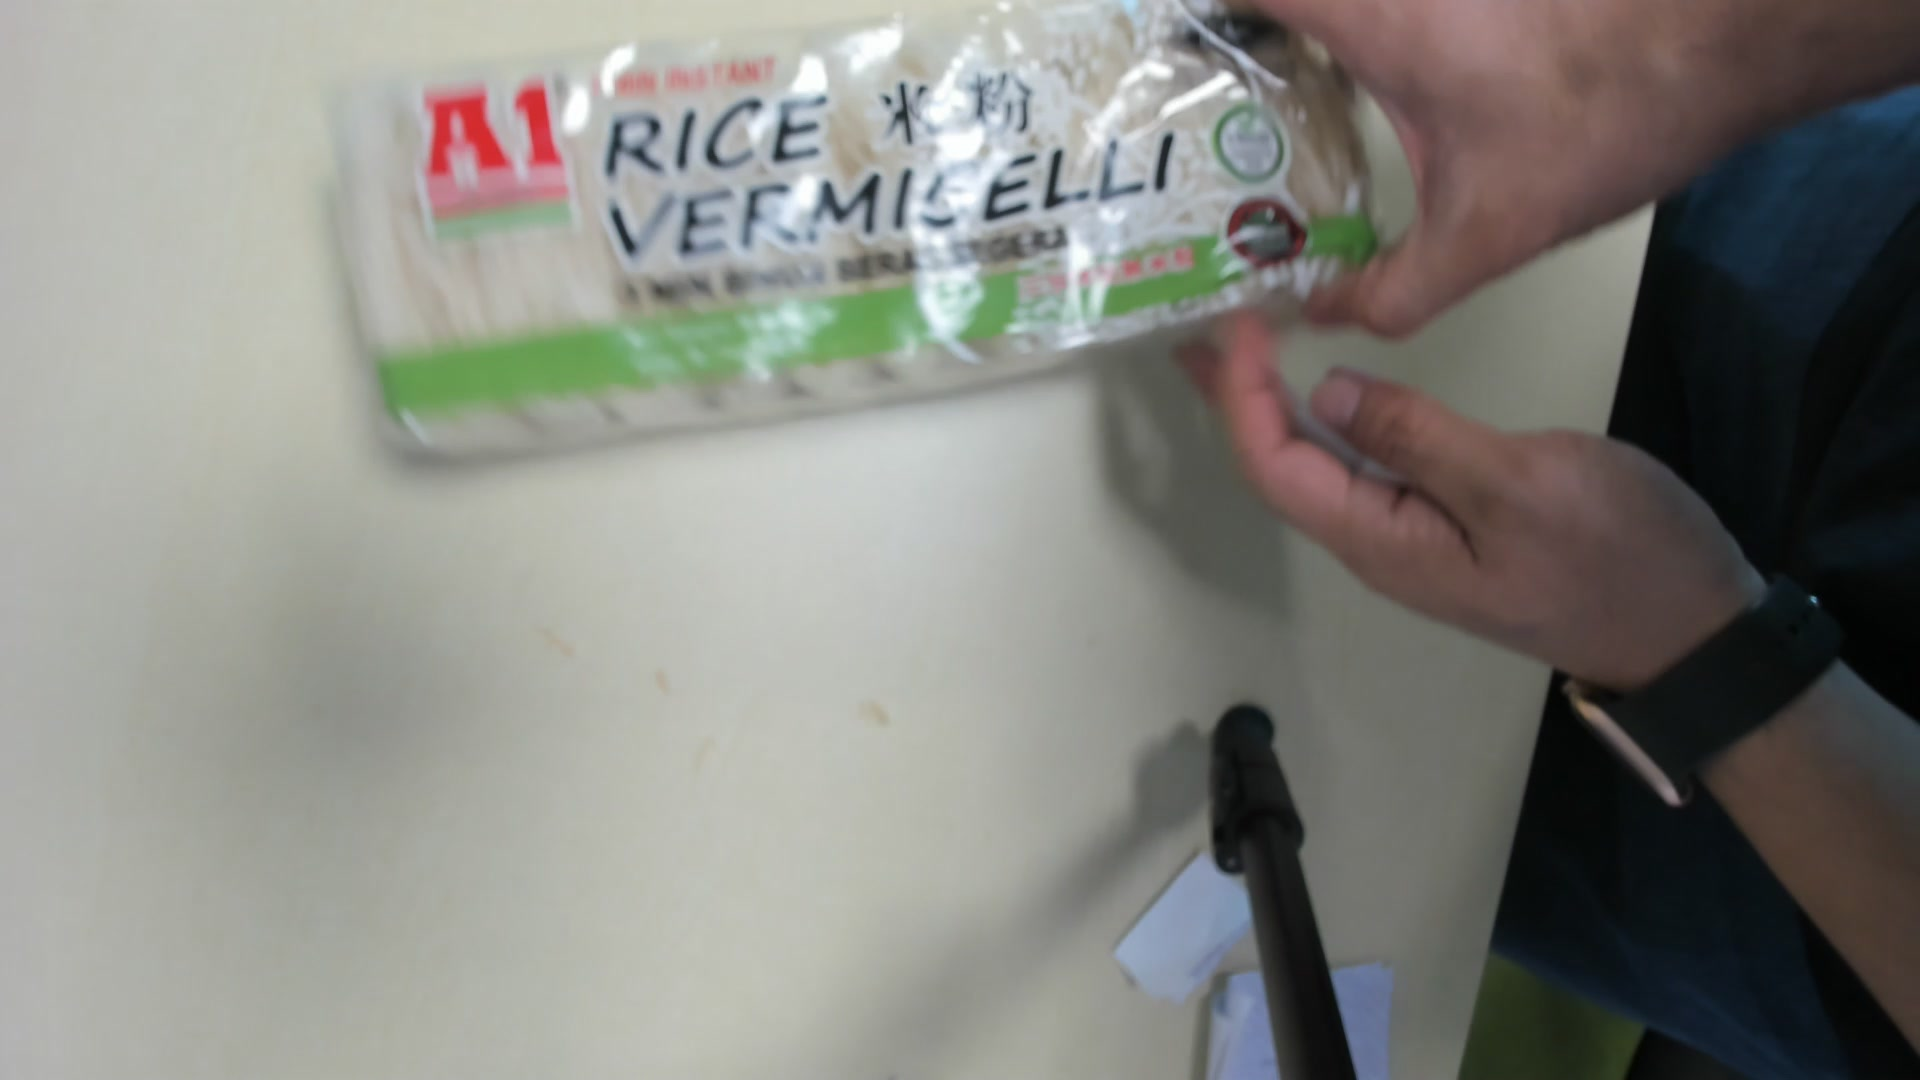BeeHoonVermicelli_400-499g_Halal_NonHealthy: (310, 7, 1386, 460)
